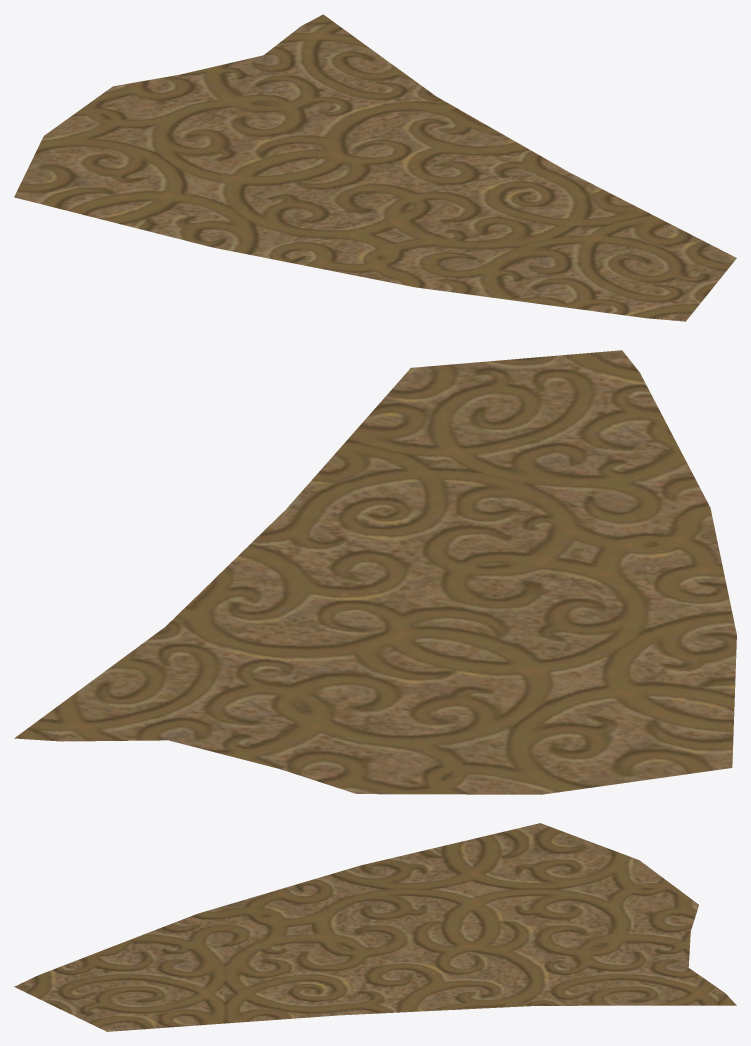
The model's file is EKH_THRONE_PS_TH_LINE22.fbx.
The picture shows the model from 3 angles, top to bottom: view 1: azimuth 30°, elevation 25°; view 2: azimuth 150°, elevation 25°; view 3: azimuth 270°, elevation 25°; orthographic projection. The views are drawn at different scales.
Parts seen in each view (by area): view 1: EKH_THRONE_PS_TH_LINE22; view 2: EKH_THRONE_PS_TH_LINE22; view 3: EKH_THRONE_PS_TH_LINE22.
Part boxes in pixels (x1,y1,x2,y2): EKH_THRONE_PS_TH_LINE22: (14,14,736,321); EKH_THRONE_PS_TH_LINE22: (14,350,736,794); EKH_THRONE_PS_TH_LINE22: (14,823,736,1031).
Size of the model in its own units: 40077 by 0.051 by 58639.
Materials: 1 (1 with a texture image).
